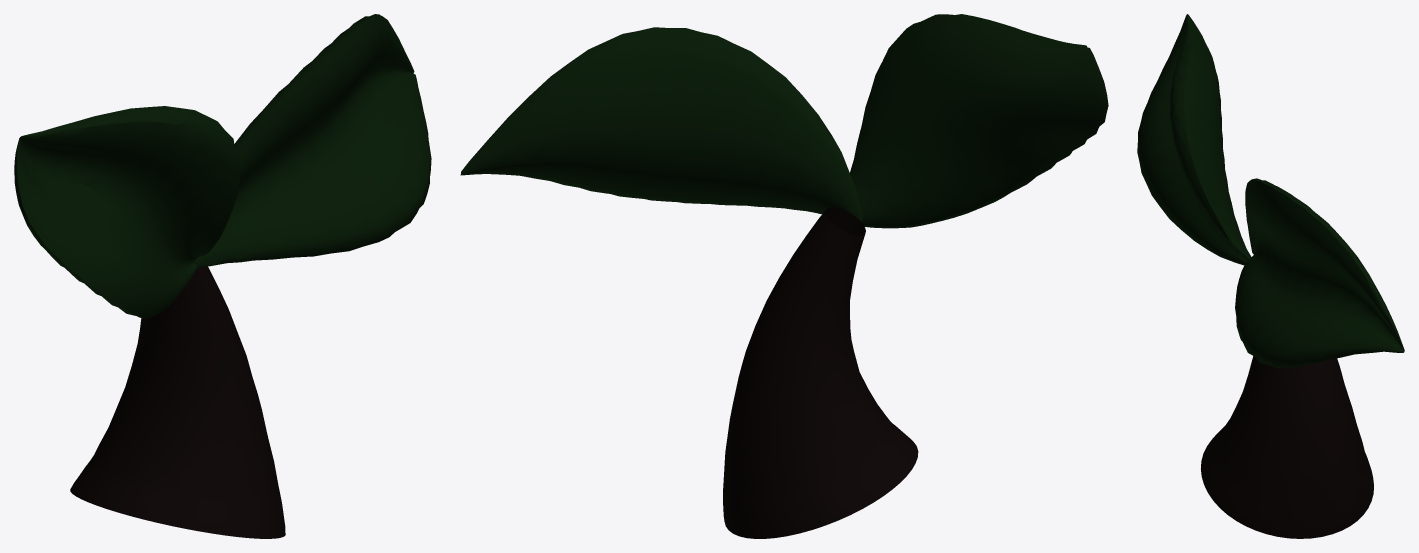
3 views of the same model, side by side, from view 1: azimuth 30°, elevation 25°; view 2: azimuth 150°, elevation 25°; view 3: azimuth 270°, elevation 25° (orthographic). The views are drawn at different scales.
Parts seen in each view (by area): view 1: head_decor; view 2: head_decor; view 3: head_decor.
Part boxes in pixels (x1=…): head_decor: x1=14, y1=14, x2=431, y2=538; head_decor: x1=460, y1=14, x2=1108, y2=538; head_decor: x1=1137, y1=14, x2=1404, y2=538.
Bounding box in the file's own units: 29.54 × 15.87 × 26.66.
